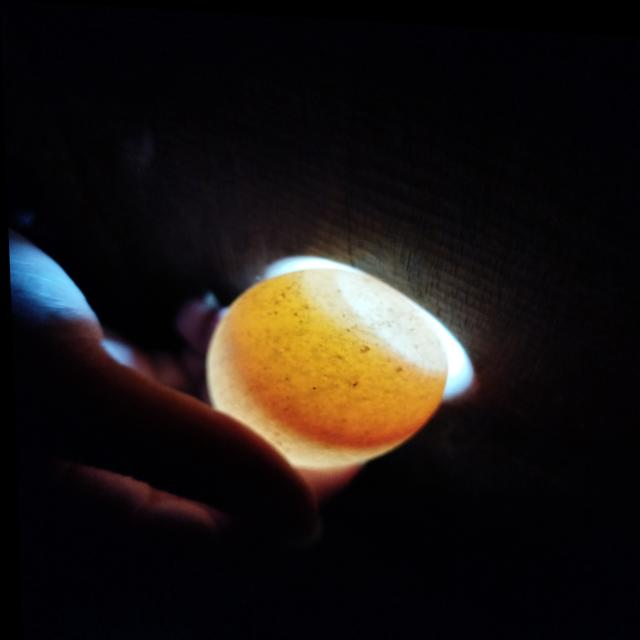Camara de Ar: (334, 267, 445, 369)
